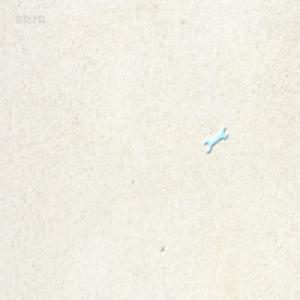Wrench: (203, 125, 228, 152)
